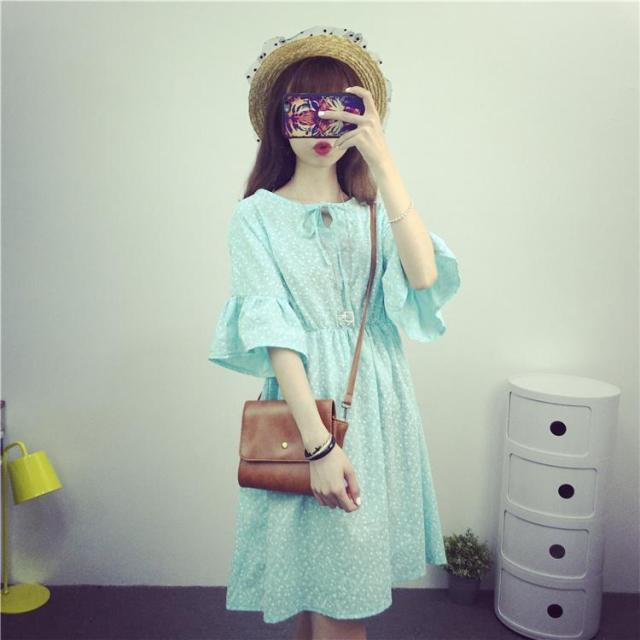short-sleeve-dress: (192, 166, 487, 638)
